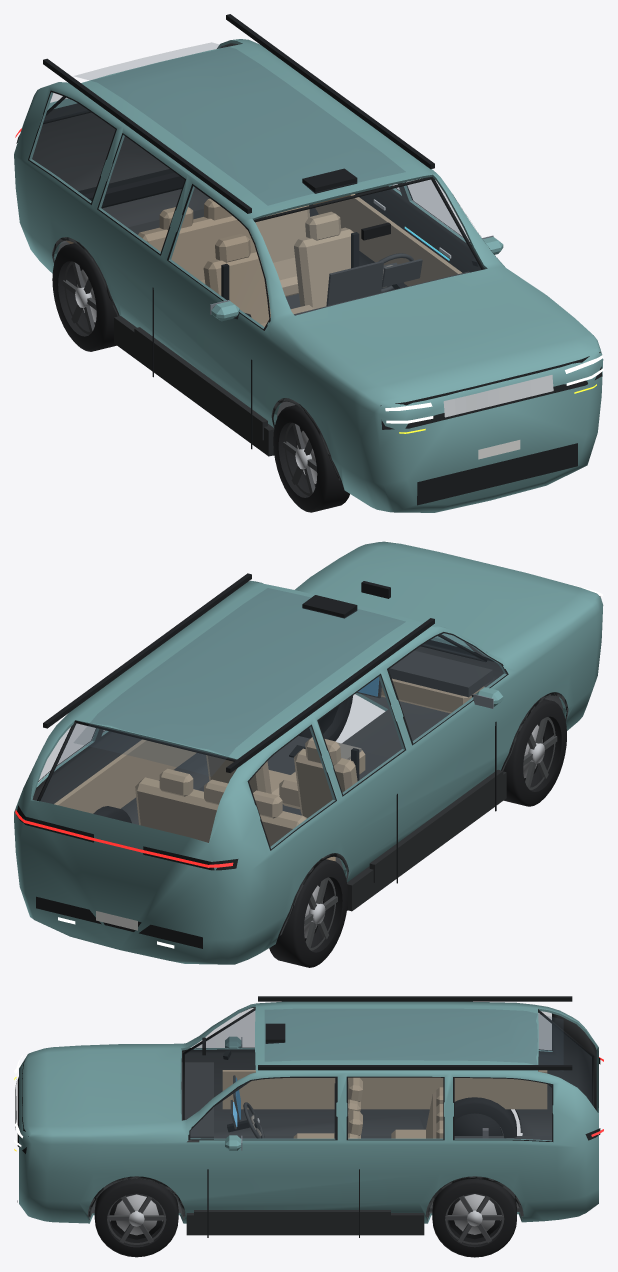
File: xiaomi-n90.glb
3 renders of one model, top to bottom at view 1: azimuth 30°, elevation 25°; view 2: azimuth 150°, elevation 25°; view 3: azimuth 270°, elevation 25°, orthographic. The views are drawn at different scales.
Visible parts, largest first — view 1: Body, Surface_CarRoot_Glass, Interior_CarRoot_InteriorLeather, Surface_CarRoot_BlackTrim, Surface_CarRoot_Cladding, Surface_WheelFrontR_Tyre, Surface_WheelRearR_Tyre, Interior_CarRoot_InteriorDark, Surface_CarRoot_Chrome, Interior_CarRoot_BlackTrim, Surface_WheelRearR_Rim, Surface_WheelFrontR_Rim (+2 smaller); view 2: Body, Surface_CarRoot_Glass, Interior_CarRoot_InteriorLeather, Surface_CarRoot_BlackTrim, Surface_CarRoot_Cladding, Interior_CarRoot_InteriorDark, Surface_WheelRearR_Tyre, Surface_WheelFrontR_Tyre, Surface_WheelFrontR_Rim, Surface_WheelRearR_Rim, Surface_WheelFrontL_Tyre, Surface_CarRoot_Taillight (+1 smaller); view 3: Body, Surface_CarRoot_Glass, Interior_CarRoot_InteriorLeather, Surface_CarRoot_BlackTrim, Surface_CarRoot_Cladding, Surface_WheelRearL_Tyre, Surface_WheelFrontL_Tyre, Interior_CarRoot_InteriorDark, Surface_WheelRearR_Tyre, Surface_WheelRearL_Rim, Surface_WheelFrontL_Rim, WheelFrontL_BrakeDisc (+3 smaller).
Part boxes in pixels (x1=…): Body: x1=14, y1=39, x2=603, y2=512; Surface_CarRoot_Glass: x1=30, y1=42, x2=481, y2=328; Interior_CarRoot_InteriorLeather: x1=66, y1=194, x2=461, y2=326; Surface_CarRoot_BlackTrim: x1=16, y1=14, x2=602, y2=505; Surface_CarRoot_Cladding: x1=52, y1=237, x2=339, y2=480; Surface_WheelFrontR_Tyre: x1=273, y1=404, x2=349, y2=512; Surface_WheelRearR_Tyre: x1=52, y1=242, x2=119, y2=351; Interior_CarRoot_InteriorDark: x1=57, y1=209, x2=469, y2=417; Surface_CarRoot_Chrome: x1=373, y1=199, x2=553, y2=417; Interior_CarRoot_BlackTrim: x1=221, y1=222, x2=406, y2=300; Surface_WheelRearR_Rim: x1=62, y1=261, x2=96, y2=334; Surface_WheelFrontR_Rim: x1=283, y1=422, x2=316, y2=495; Body: x1=14, y1=541, x2=603, y2=964; Surface_CarRoot_Glass: x1=39, y1=588, x2=505, y2=848; Interior_CarRoot_InteriorLeather: x1=54, y1=678, x2=484, y2=861; Surface_CarRoot_BlackTrim: x1=16, y1=573, x2=600, y2=948; Surface_CarRoot_Cladding: x1=280, y1=692, x2=568, y2=935; Interior_CarRoot_InteriorDark: x1=198, y1=650, x2=492, y2=870; Surface_WheelRearR_Tyre: x1=269, y1=858, x2=348, y2=967; Surface_WheelFrontR_Tyre: x1=501, y1=698, x2=566, y2=806; Surface_WheelFrontR_Rim: x1=523, y1=717, x2=557, y2=790; Surface_WheelRearR_Rim: x1=304, y1=877, x2=337, y2=950; Surface_WheelFrontL_Tyre: x1=299, y1=695, x2=353, y2=741; Surface_CarRoot_Taillight: x1=15, y1=810, x2=233, y2=867; Body: x1=19, y1=1001, x2=598, y2=1223; Surface_CarRoot_Glass: x1=185, y1=1008, x2=591, y2=1140; Interior_CarRoot_InteriorLeather: x1=222, y1=1070, x2=547, y2=1138; Surface_CarRoot_BlackTrim: x1=17, y1=996, x2=600, y2=1237; Surface_CarRoot_Cladding: x1=87, y1=1109, x2=523, y2=1235; Surface_WheelRearL_Tyre: x1=432, y1=1179, x2=516, y2=1257; Surface_WheelFrontL_Tyre: x1=94, y1=1179, x2=178, y2=1257; Interior_CarRoot_InteriorDark: x1=181, y1=1062, x2=551, y2=1211; Surface_WheelRearR_Tyre: x1=454, y1=1097, x2=516, y2=1138; Surface_WheelRearL_Rim: x1=445, y1=1195, x2=504, y2=1244; Surface_WheelFrontL_Rim: x1=107, y1=1195, x2=166, y2=1244; WheelFrontL_BrakeDisc: x1=114, y1=1194, x2=158, y2=1235.
Bounding box in the file's own units: 2.32 × 1.82 × 5.38.
